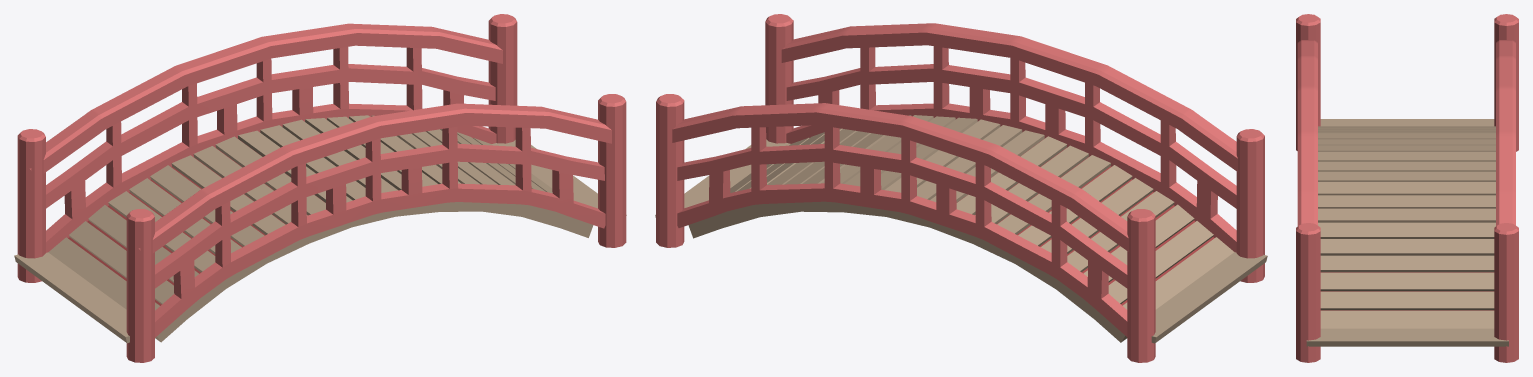
The model's file is ER_Asset_Bridge_farm.fbx.
3 views of the same model, side by side, from view 1: azimuth 30°, elevation 25°; view 2: azimuth 150°, elevation 25°; view 3: azimuth 270°, elevation 25° (orthographic). The views are drawn at different scales.
Parts seen in each view (by area): view 1: pCube292; view 2: pCube292; view 3: pCube292.
Part boxes in pixels (x1,y1,x2,y2): pCube292: (14, 14, 626, 362); pCube292: (655, 14, 1267, 362); pCube292: (1296, 14, 1518, 362).
Bounding box in the file's own units: 5.42 × 1.87 × 2.3.
